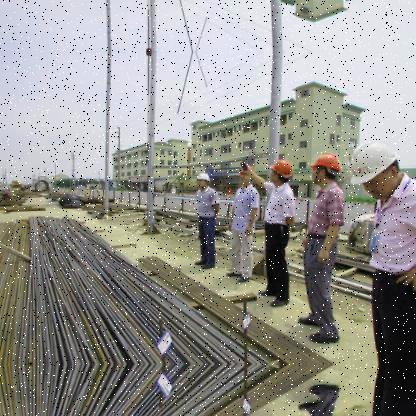Helmet: (349, 133, 403, 201), (311, 152, 340, 188), (267, 156, 291, 191), (196, 167, 212, 192)
